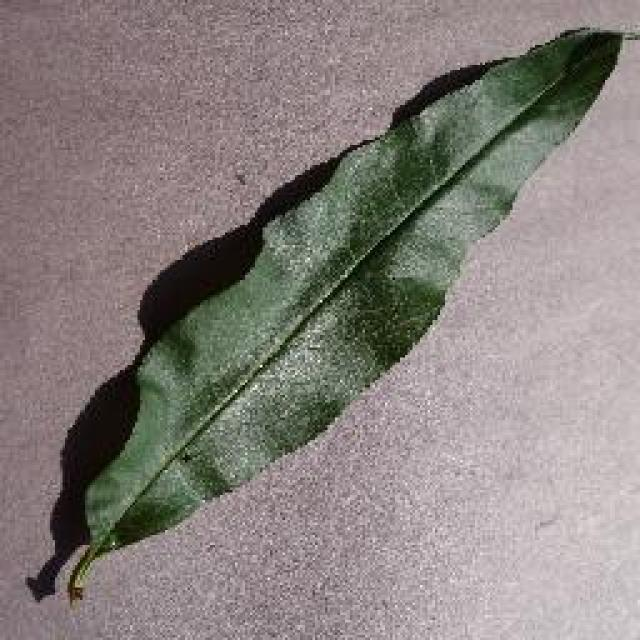Pea_healthy: (118, 58, 592, 488)
